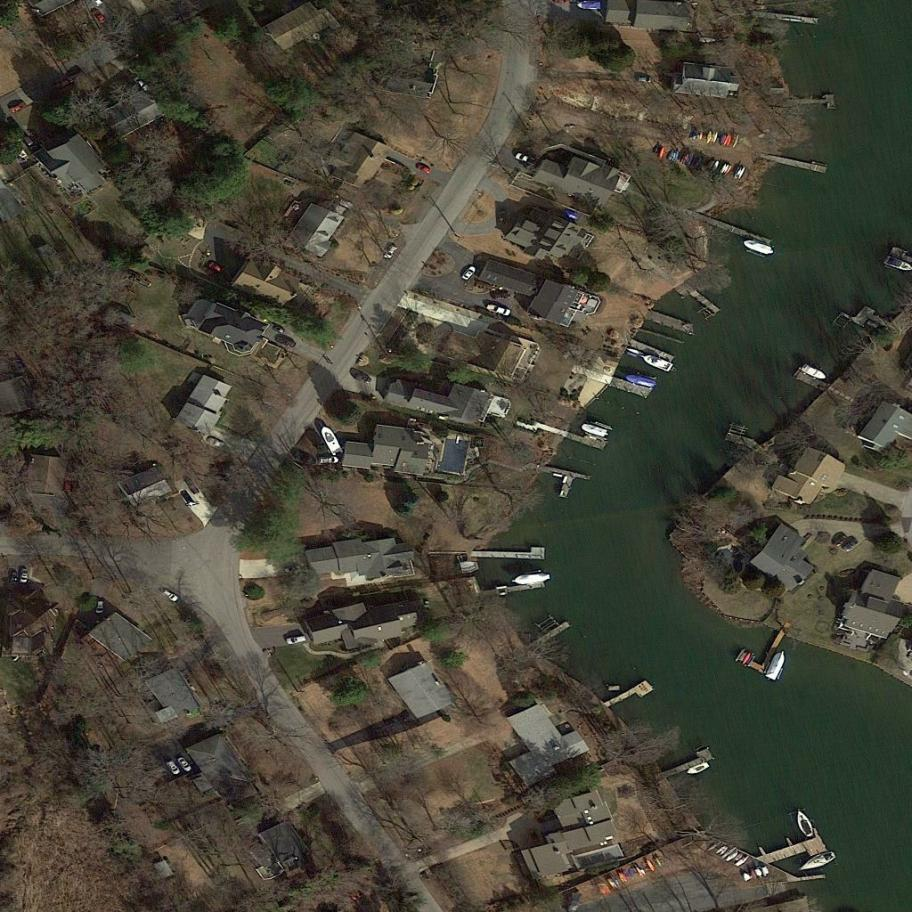ship: (794, 850, 838, 874), (637, 349, 674, 374), (318, 424, 343, 457), (763, 649, 787, 682), (742, 236, 776, 257), (793, 808, 815, 840), (799, 361, 829, 383), (625, 372, 656, 390), (509, 573, 551, 586), (580, 421, 609, 439), (686, 761, 711, 776), (733, 853, 751, 869), (720, 845, 737, 860), (576, 2, 602, 11), (725, 849, 740, 863), (625, 345, 644, 356), (644, 858, 656, 874), (699, 37, 719, 43)
small-vehicle: (293, 448, 318, 467), (349, 366, 372, 386), (273, 334, 297, 350), (182, 475, 200, 496), (133, 74, 151, 94), (179, 489, 196, 509), (485, 303, 510, 316), (842, 537, 860, 555), (21, 132, 38, 151), (90, 7, 107, 25), (12, 141, 28, 160), (8, 100, 28, 115), (161, 588, 181, 603), (832, 533, 849, 550), (208, 260, 226, 276), (461, 263, 477, 281), (177, 756, 193, 774), (266, 320, 286, 334), (205, 436, 225, 450), (285, 635, 307, 646), (384, 244, 398, 260), (167, 760, 181, 776), (415, 162, 432, 174), (320, 455, 338, 464), (9, 569, 18, 585), (284, 566, 301, 574), (492, 292, 511, 299), (20, 568, 28, 583), (96, 601, 104, 615), (637, 77, 653, 83), (499, 211, 506, 224)
